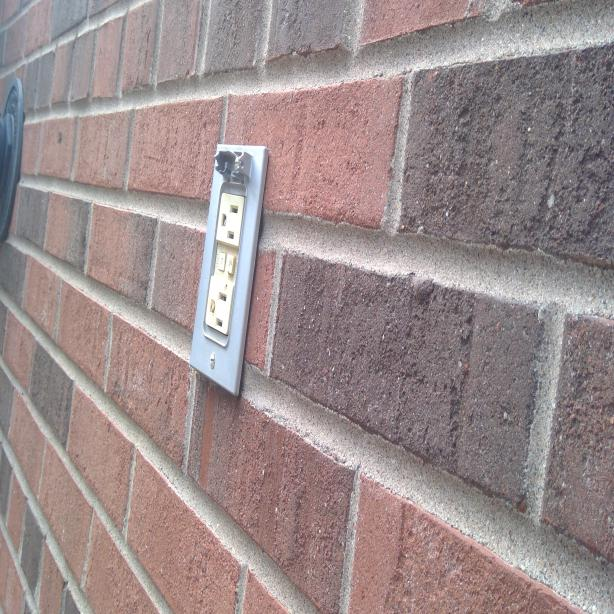typeb: (206, 278, 234, 331), (218, 197, 244, 243)
